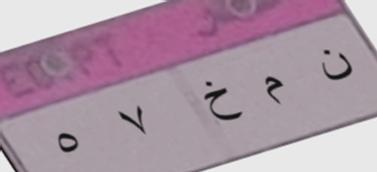5: (48, 126, 86, 162)
7: (116, 101, 153, 140)
khaa: (202, 76, 244, 132)
meem: (259, 68, 292, 113)
noon: (314, 45, 364, 91)
